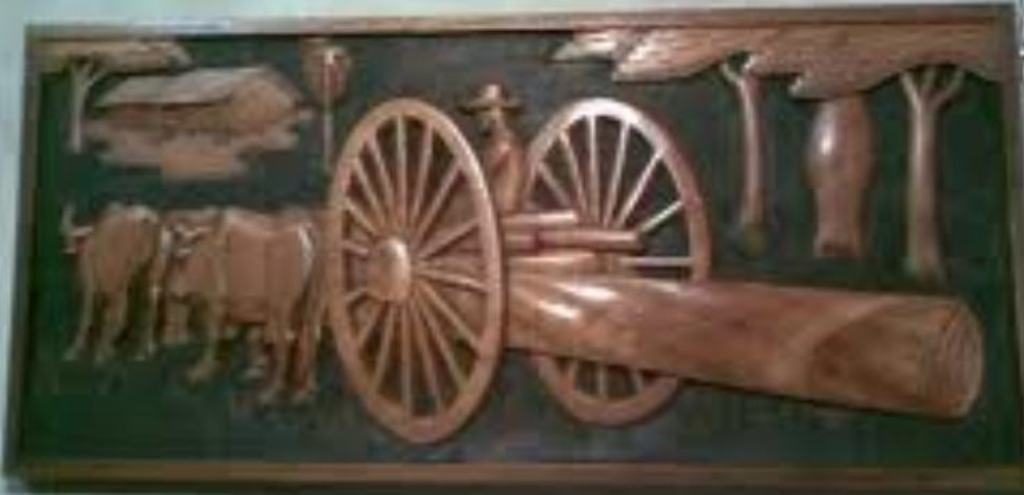Animal: (171, 205, 324, 404), (66, 200, 173, 364)
